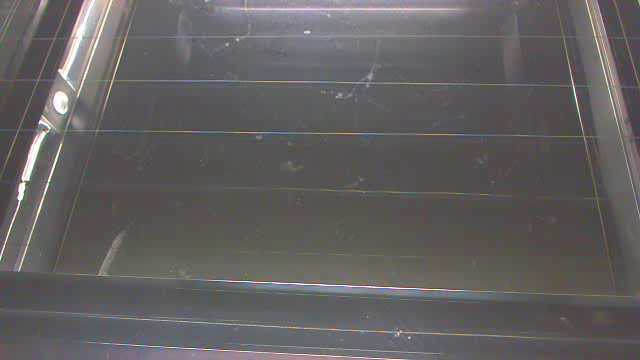alpha: (96, 230, 122, 277)
